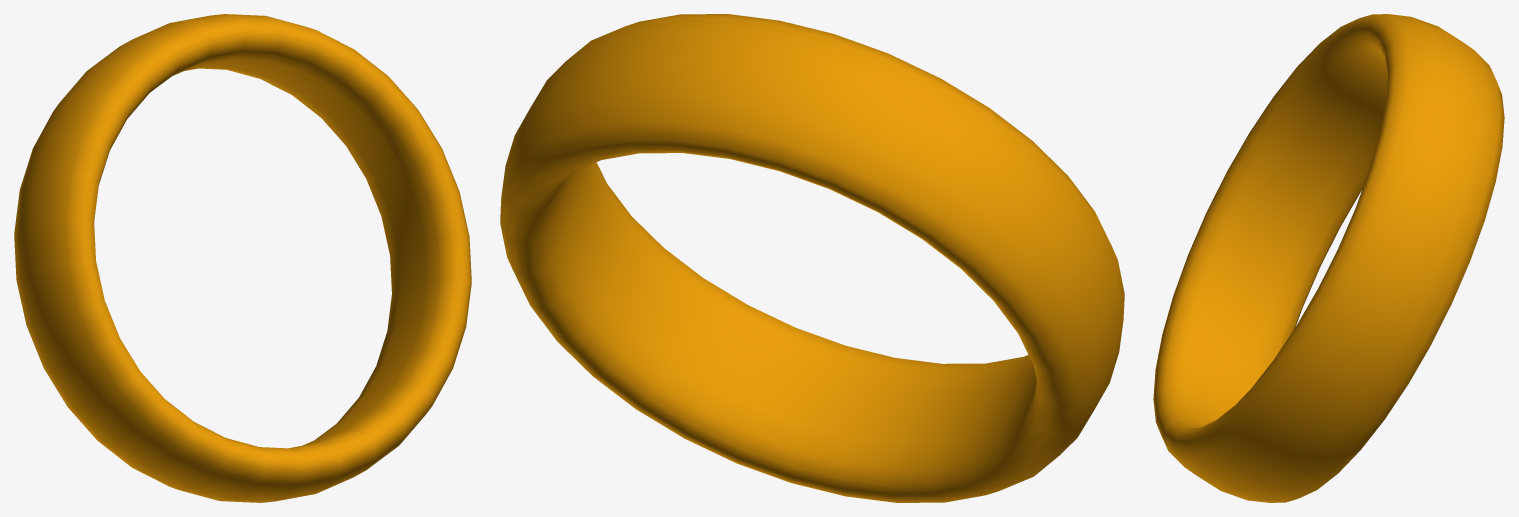
Rendered from one_ring.fbx.
The picture shows the model from 3 angles, left to right: view 1: azimuth 30°, elevation 25°; view 2: azimuth 150°, elevation 25°; view 3: azimuth 270°, elevation 25°; orthographic projection. The views are drawn at different scales.
Parts seen in each view (by area): view 1: tHE oNE rING; view 2: tHE oNE rING; view 3: tHE oNE rING.
Part boxes in pixels (box(x1,y1,x2,y2)): tHE oNE rING: box(14, 14, 471, 502); tHE oNE rING: box(500, 14, 1124, 502); tHE oNE rING: box(1153, 14, 1504, 502).
Size of the model in its own units: 511 by 478 by 351.
